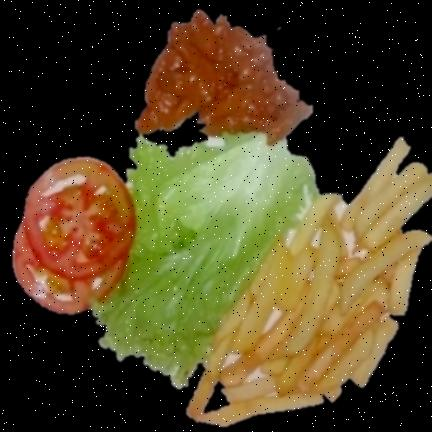beans: (136, 11, 312, 144)
potato: (189, 139, 432, 426)
salad: (94, 134, 317, 388)
tomato: (15, 159, 135, 313)
